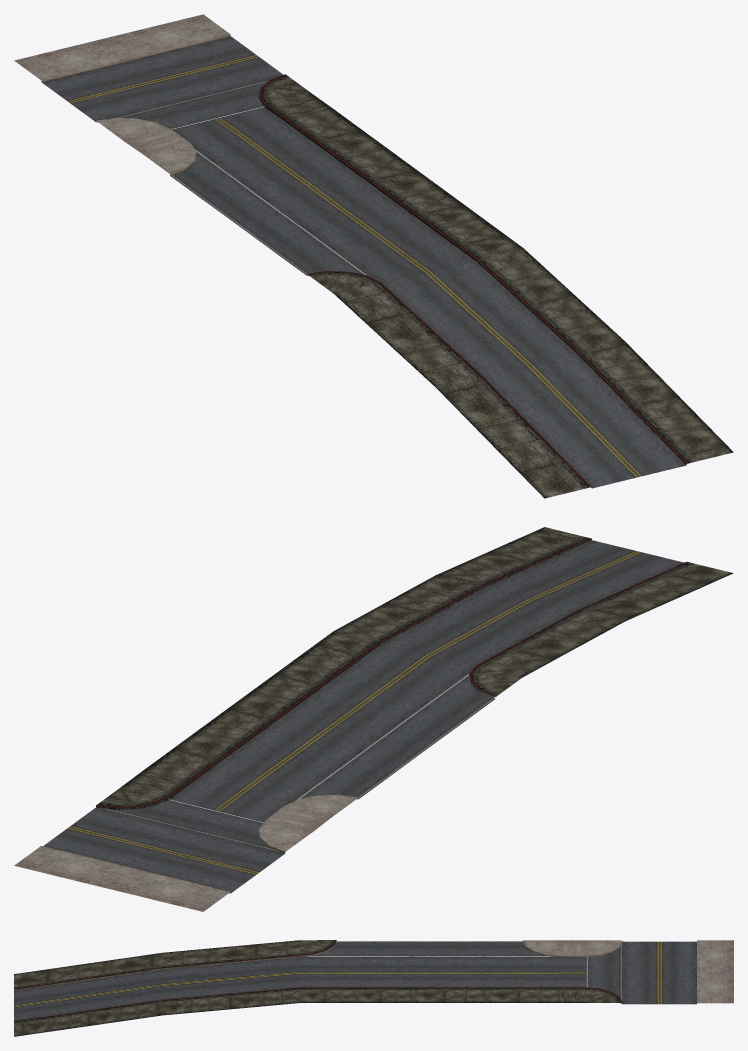
Rendered from lae2_roads60.obj.
3 renders of one model, top to bottom at view 1: azimuth 30°, elevation 25°; view 2: azimuth 150°, elevation 25°; view 3: azimuth 270°, elevation 25°, orthographic. The views are drawn at different scales.
Parts seen in each view (by area): view 1: Lae2_roads60; view 2: Lae2_roads60; view 3: Lae2_roads60.
Boxes of the visible parts, bbox=[...] form: Lae2_roads60: bbox=[14, 14, 733, 498]; Lae2_roads60: bbox=[14, 527, 733, 911]; Lae2_roads60: bbox=[14, 940, 733, 1036].
Size of the model in its own units: 20.05 by 5.26 by 97.04.
